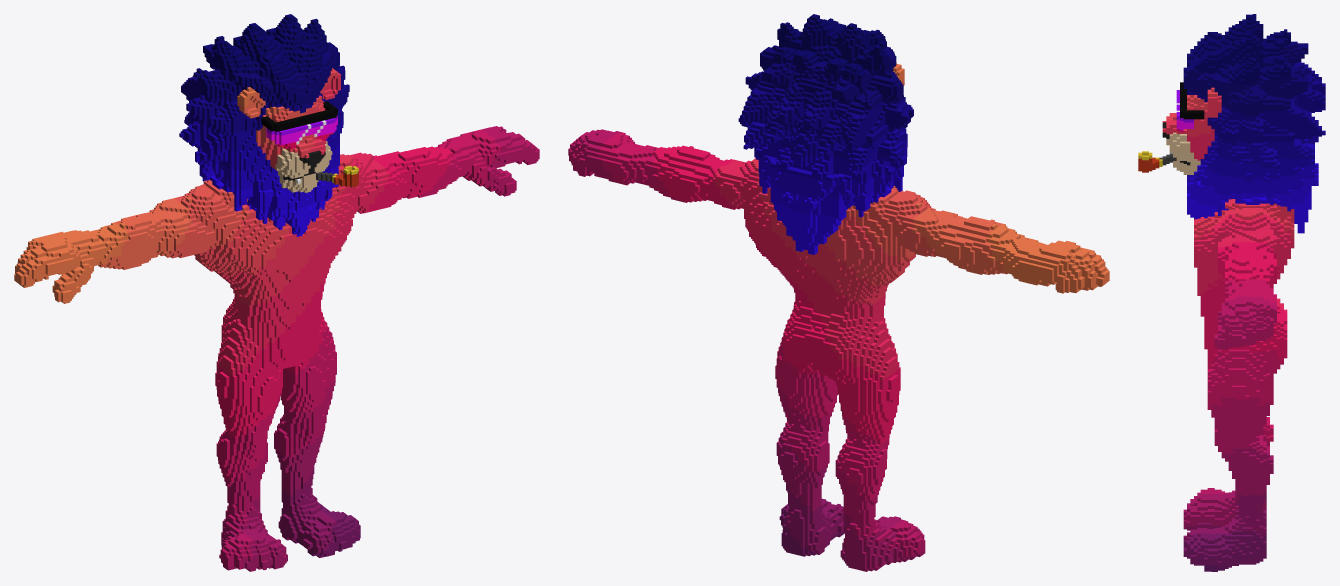
Rendered from 238-xQsX7o3A.glb.
The picture shows the model from 3 angles, left to right: view 1: azimuth 30°, elevation 25°; view 2: azimuth 150°, elevation 25°; view 3: azimuth 270°, elevation 25°; orthographic projection. The views are drawn at different scales.
Parts seen in each view (by area): view 1: pipe; view 2: pipe; view 3: pipe.
Part boxes in pixels (left/top/right/bottom): pipe: left=14, top=14, right=539, bottom=571; pipe: left=568, top=14, right=1109, bottom=571; pipe: left=1138, top=14, right=1325, bottom=571.
Bounding box in the file's own units: 17.2 × 16.5 × 5.4.
Materials: 4 (4 with a texture image).
